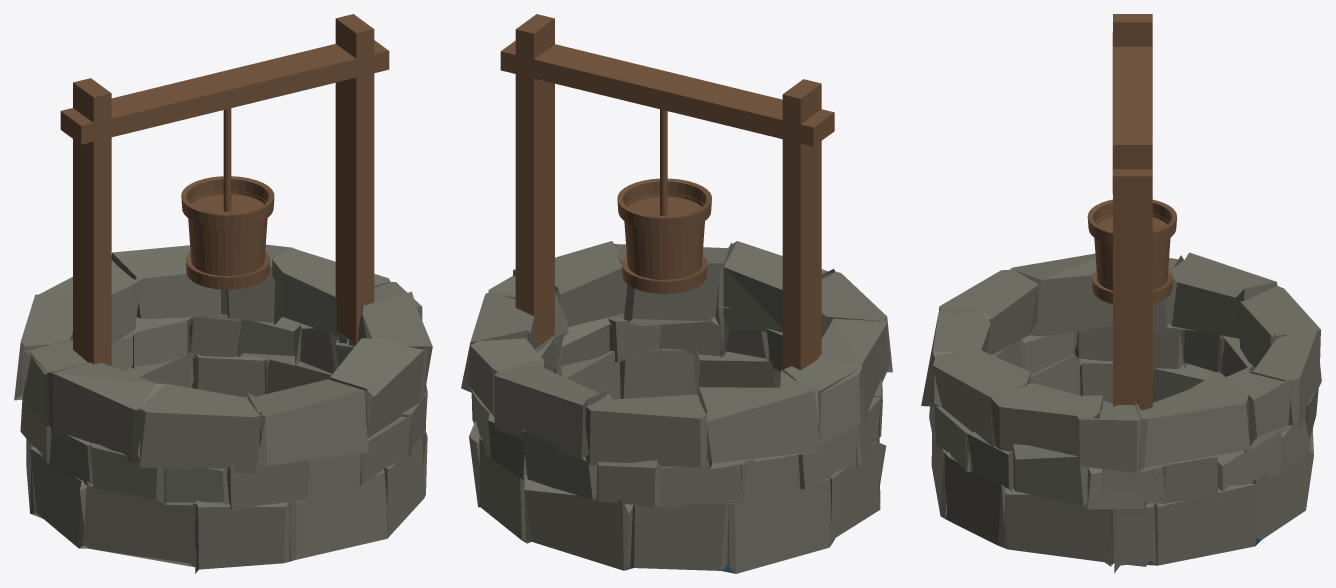
Rendered from well_ud.fbx.
3 renders of one model, left to right at view 1: azimuth 30°, elevation 25°; view 2: azimuth 150°, elevation 25°; view 3: azimuth 270°, elevation 25°, orthographic. The views are drawn at different scales.
Visible parts, largest first — view 1: rock, wood; view 2: rock, wood; view 3: rock, wood.
Boxes of the visible parts, x1,y1,x2,y2 form: rock: [14, 244, 432, 573]; wood: [60, 14, 389, 366]; rock: [461, 241, 892, 573]; wood: [500, 14, 834, 369]; rock: [921, 252, 1321, 573]; wood: [1087, 14, 1176, 410].
Bounding box in the file's own units: 957 × 1112 × 962.
